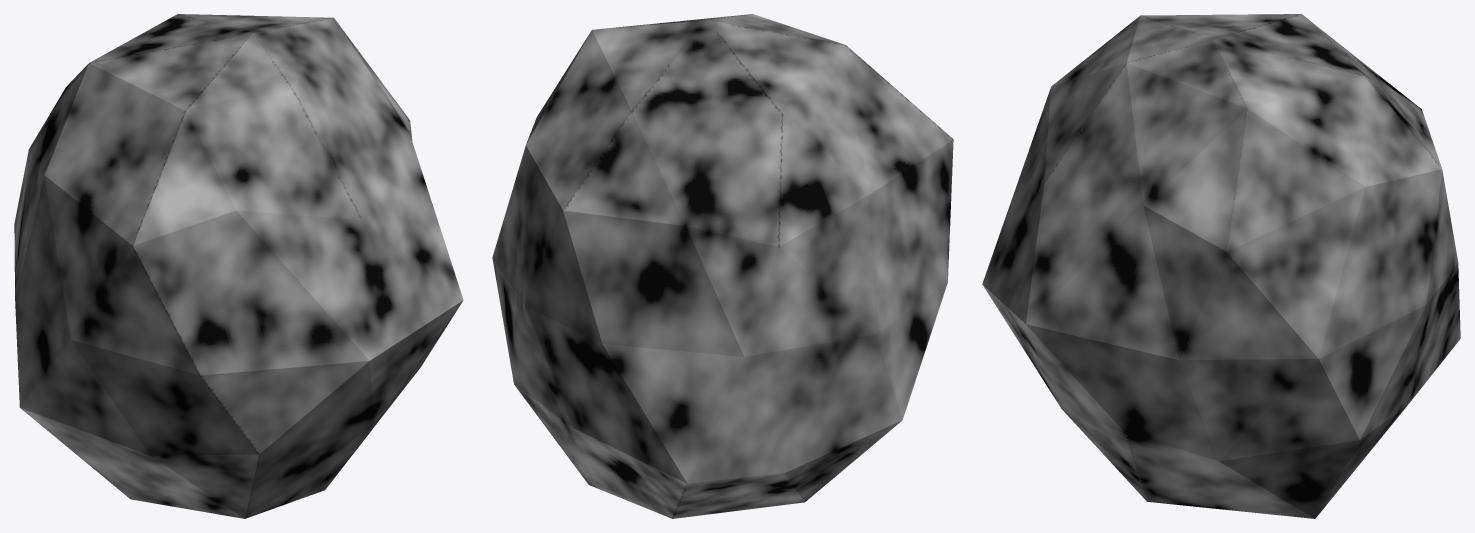
The model's file is bush_medium.glb.
3 views of the same model, side by side, from view 1: azimuth 30°, elevation 25°; view 2: azimuth 150°, elevation 25°; view 3: azimuth 270°, elevation 25° (orthographic).
Parts seen in each view (by area): view 1: bush_medium; view 2: bush_medium; view 3: bush_medium.
Boxes of the visible parts, <box> form: bush_medium: <box>14,14,463,518</box>; bush_medium: <box>492,14,953,518</box>; bush_medium: <box>982,14,1460,518</box>.
Bounding box in the file's own units: 1.49 × 1.72 × 1.62.
1 material, 1 textured.
